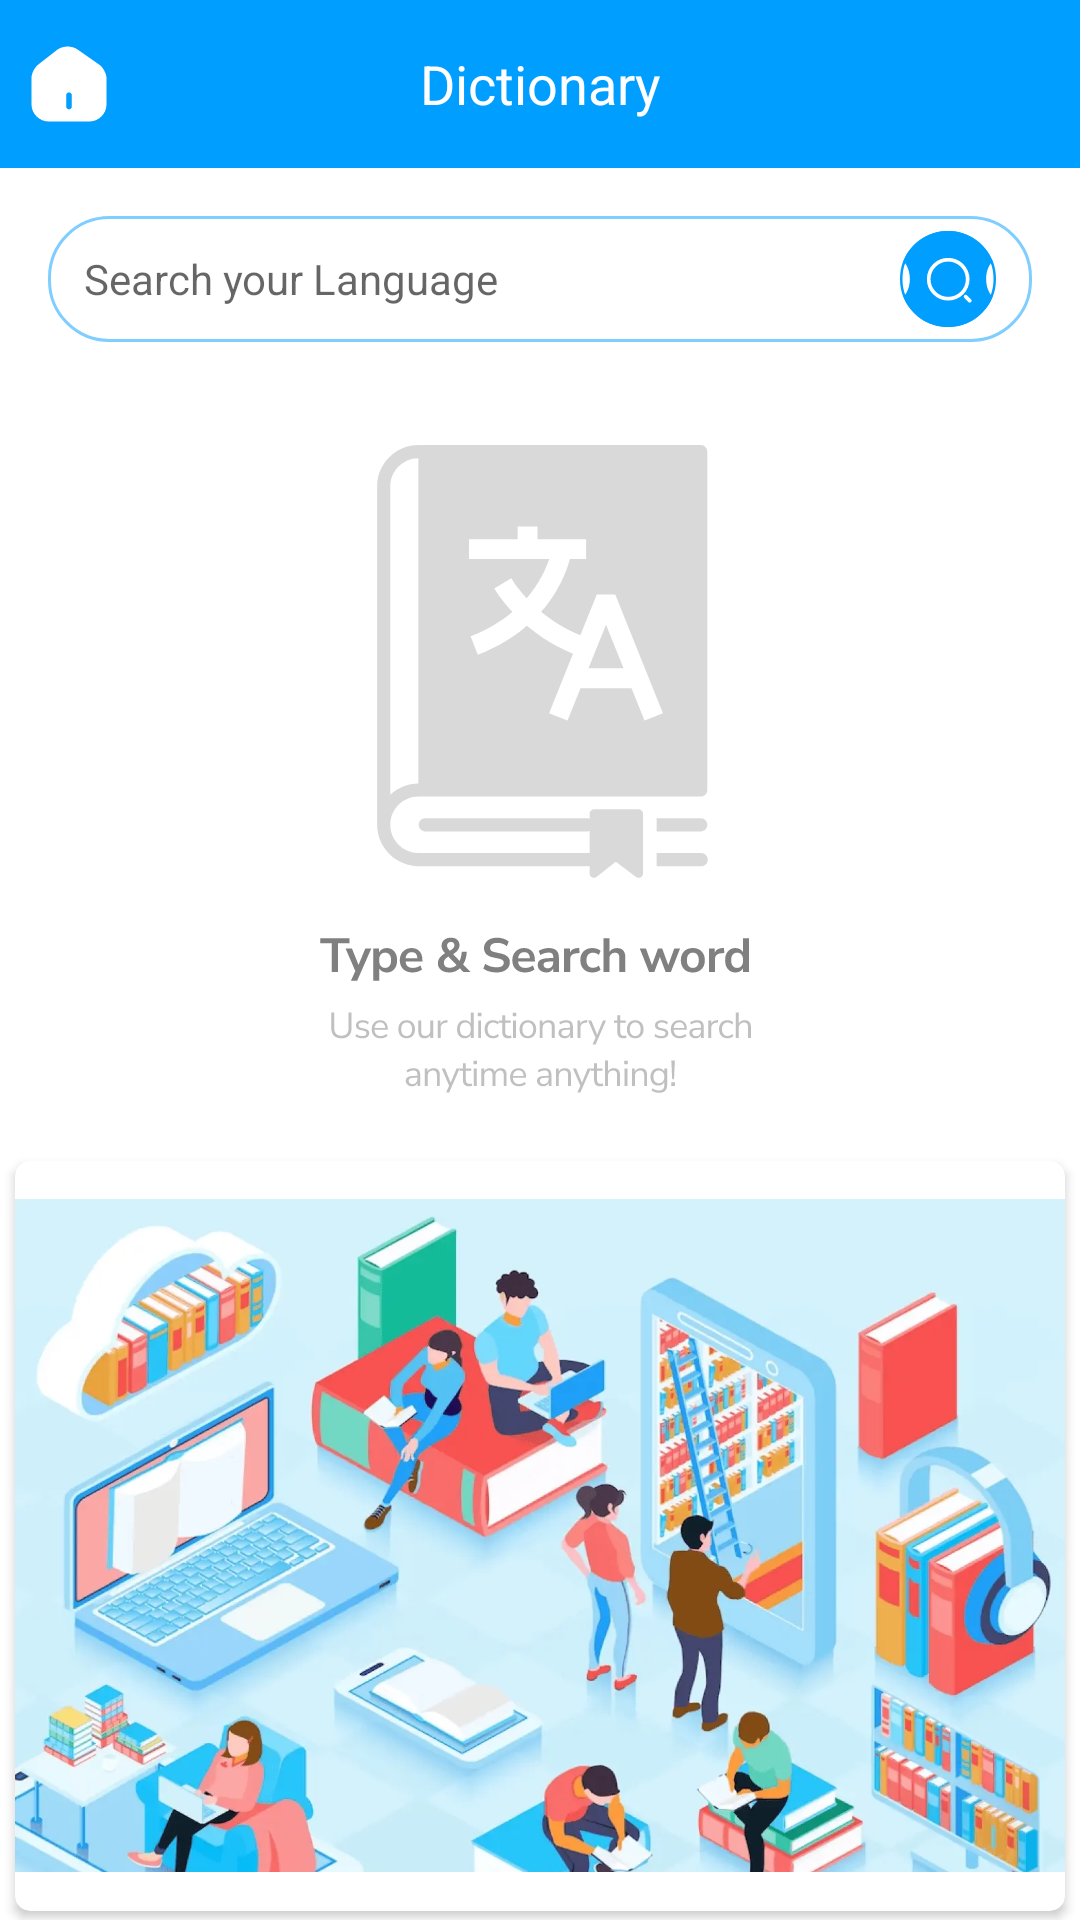

Icon bounding boxes for this 1080px x 1920px phone screenshot, format [x1,y1,x2,y2]:
home: [31,46,107,122]
